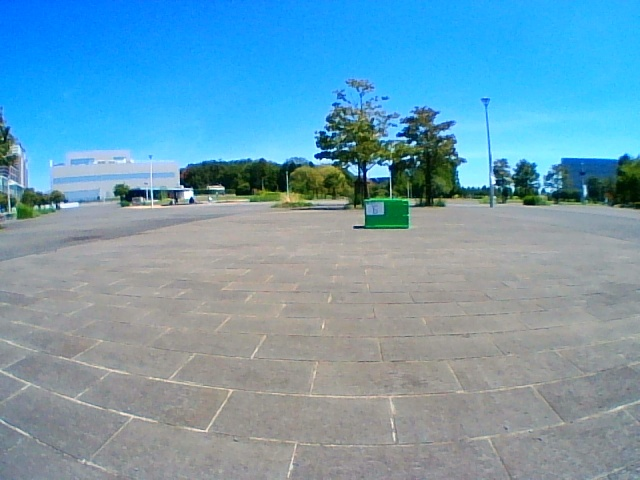green_box: (365, 198, 408, 229)
tag: (367, 202, 383, 213)
